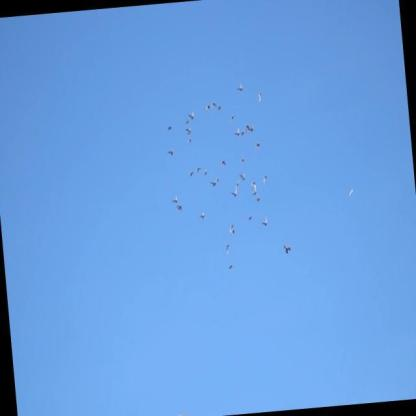bird: (230, 181, 241, 198), (245, 119, 254, 135), (209, 176, 220, 187), (236, 81, 245, 94), (260, 215, 269, 228), (233, 124, 241, 138), (250, 185, 258, 198), (283, 242, 291, 255), (170, 194, 179, 205), (258, 90, 265, 103), (239, 170, 246, 183), (256, 193, 262, 207), (184, 126, 193, 135), (167, 148, 176, 157), (188, 110, 195, 121), (224, 244, 231, 255), (347, 187, 354, 198), (198, 211, 206, 220), (263, 174, 269, 185), (176, 203, 183, 212), (211, 99, 217, 109), (220, 158, 226, 168), (250, 179, 256, 189), (189, 170, 196, 178), (187, 136, 193, 145), (230, 114, 235, 124), (229, 223, 234, 233), (185, 116, 190, 125), (241, 128, 246, 137), (256, 141, 261, 150), (195, 165, 201, 172), (205, 103, 210, 111), (248, 214, 253, 222), (217, 105, 222, 112), (167, 124, 172, 131), (240, 156, 245, 162), (229, 263, 234, 269), (204, 168, 208, 175), (231, 228, 235, 235)
